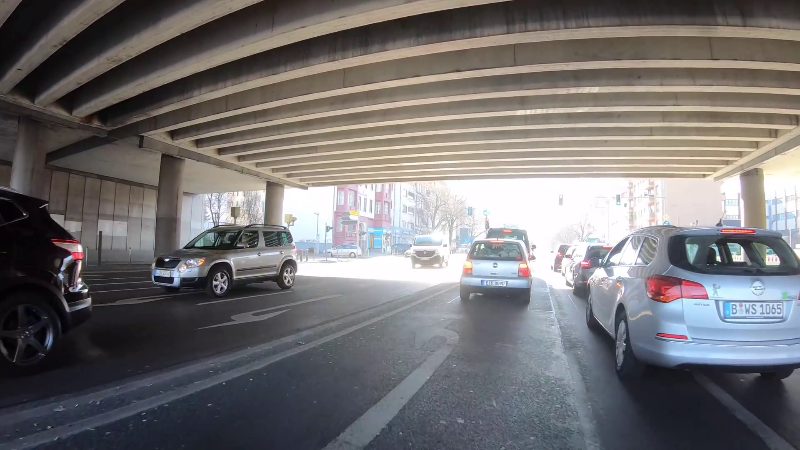Plate: (720, 301, 785, 318), (478, 279, 506, 288), (152, 269, 173, 277)
